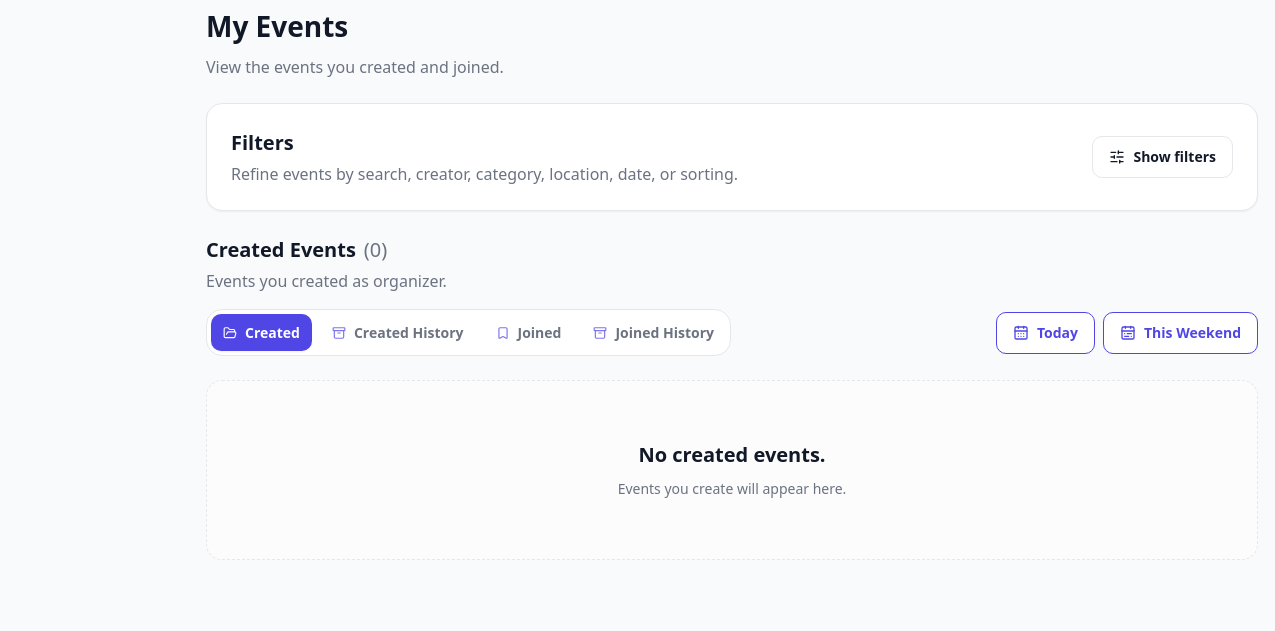
Test: MyEventsPage › changes view when clicking Created History tab
Expected: the heading "No created events." is shown, [638,440,826,470]
Click the tab "Created History" at [398, 332], box [320,314,476,351]
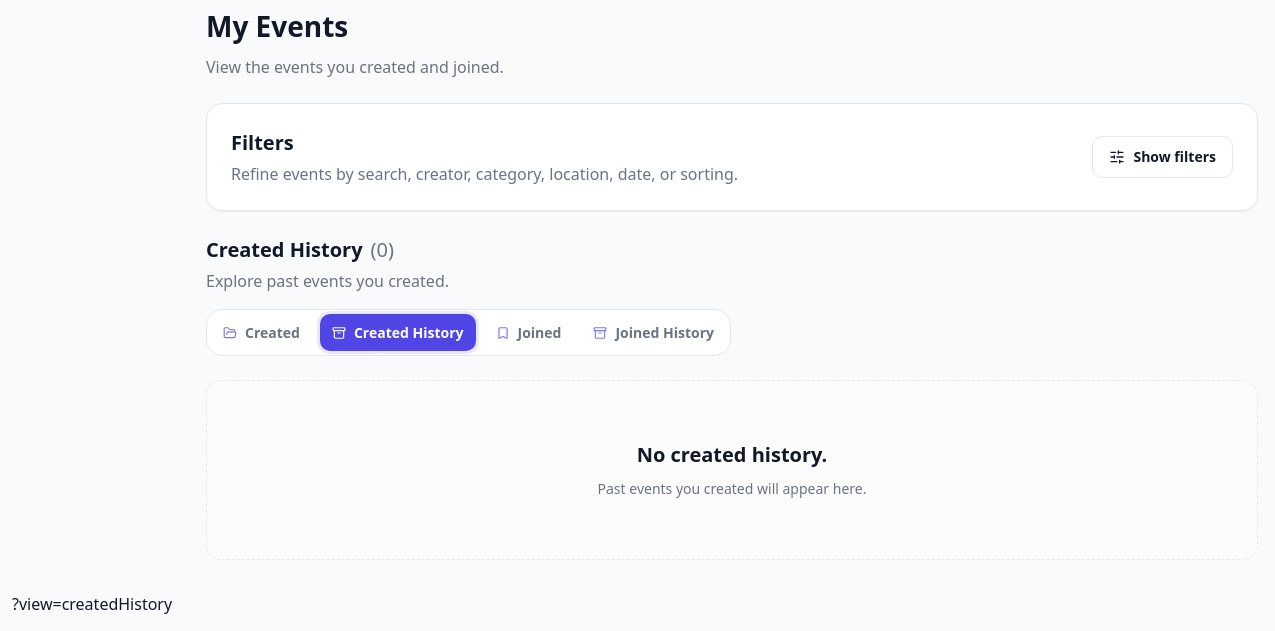
Now the heading "Created History(0)" is shown, box [206,236,394,263]
